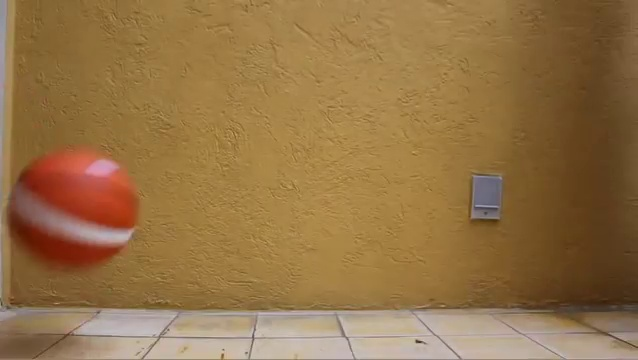ball: (8, 138, 142, 274)
